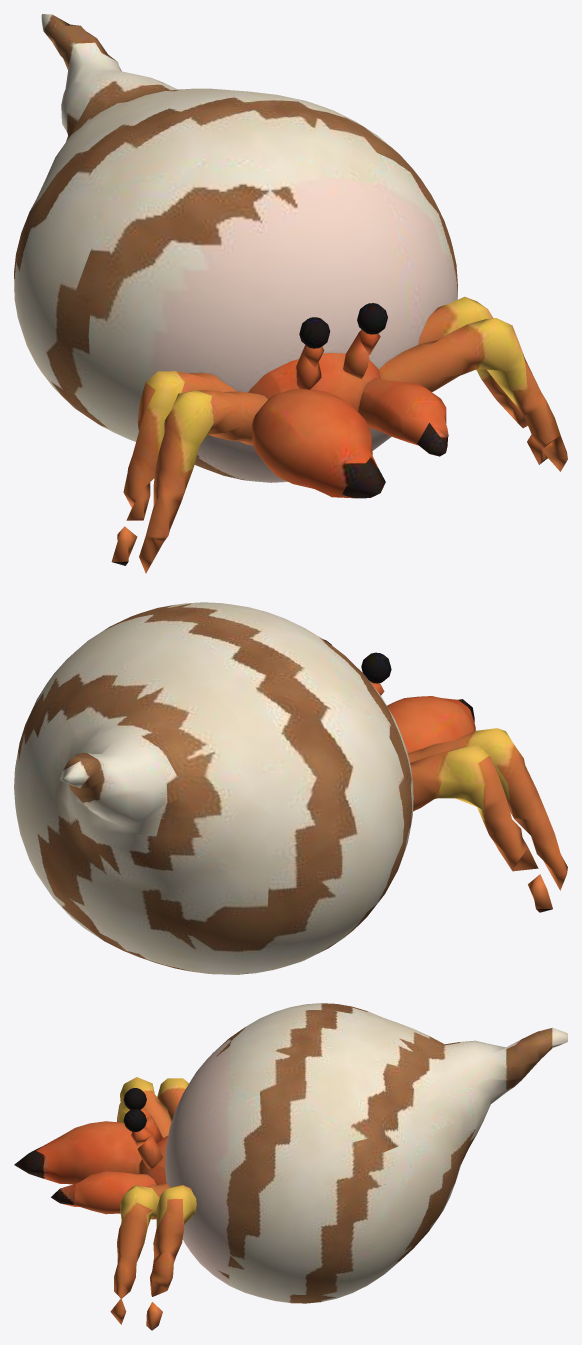
Rendered from hermit_crab.glb.
The picture shows the model from 3 angles, top to bottom: view 1: azimuth 30°, elevation 25°; view 2: azimuth 150°, elevation 25°; view 3: azimuth 270°, elevation 25°; orthographic projection. The views are drawn at different scales.
Parts seen in each view (by area): view 1: hermit_crab, claw0, leg2, leg0, leg1, claw1, leg3; view 2: hermit_crab, leg1, leg0, claw0; view 3: hermit_crab, claw0, leg3, leg2, claw1, leg0, leg1.
Part boxes in pixels (<box>): hermit_crab: <box>14,14,457,482</box>; claw0: <box>252,388,385,498</box>; leg2: <box>379,318,567,471</box>; leg0: <box>139,390,267,573</box>; leg1: <box>111,371,236,565</box>; claw1: <box>358,378,448,456</box>; leg3: <box>418,296,547,464</box>; hermit_crab: <box>14,602,413,974</box>; leg1: <box>410,745,552,912</box>; leg0: <box>407,728,567,890</box>; claw0: <box>387,696,475,753</box>; hermit_crab: <box>123,1003,567,1303</box>; claw0: <box>14,1121,143,1184</box>; leg3: <box>146,1185,196,1330</box>; leg2: <box>110,1183,170,1324</box>; claw1: <box>51,1171,156,1214</box>; leg0: <box>117,1077,171,1137</box>; leg1: <box>157,1078,188,1121</box>.
Size of the model in its own units: 0.1223 by 0.0916 by 0.18.
Materials: 1 (1 with a texture image).
